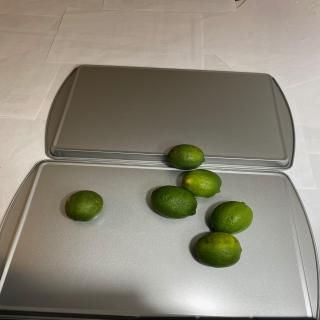Lemon: (195, 232, 242, 268), (150, 185, 198, 219), (210, 200, 253, 234), (64, 190, 104, 222), (181, 169, 222, 198), (167, 144, 205, 170)
